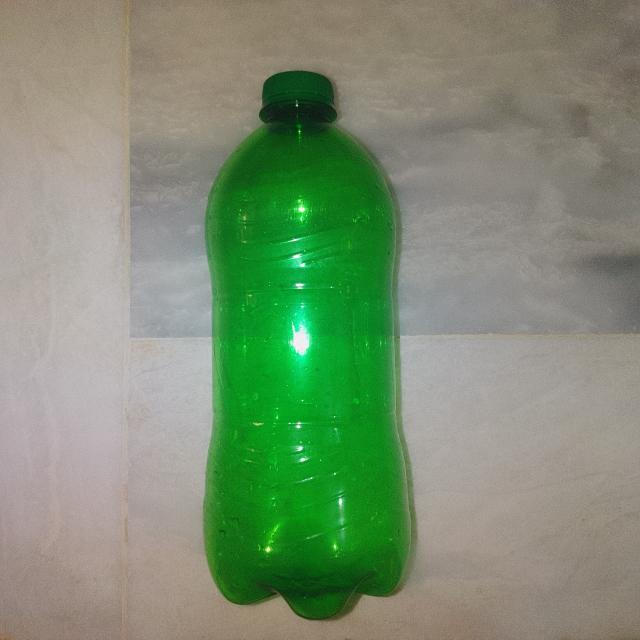bottle: (213, 54, 443, 619)
cap: (259, 70, 343, 113)
